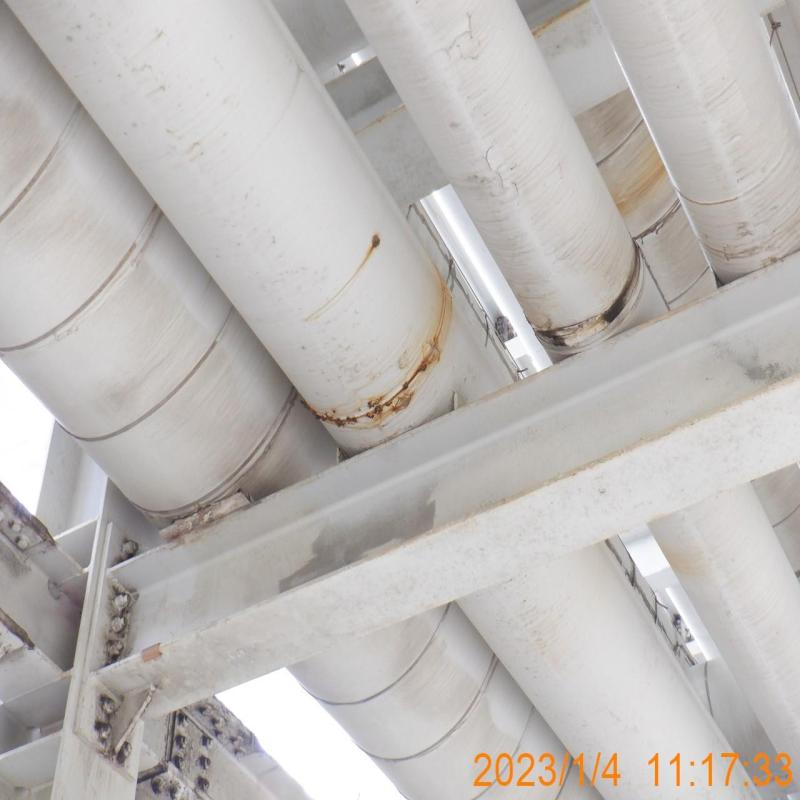corrosion: (325, 401, 429, 427), (594, 286, 640, 344), (415, 336, 431, 385), (438, 302, 452, 349)
